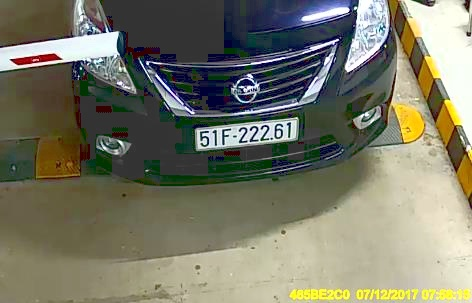plate: (191, 118, 301, 154)
